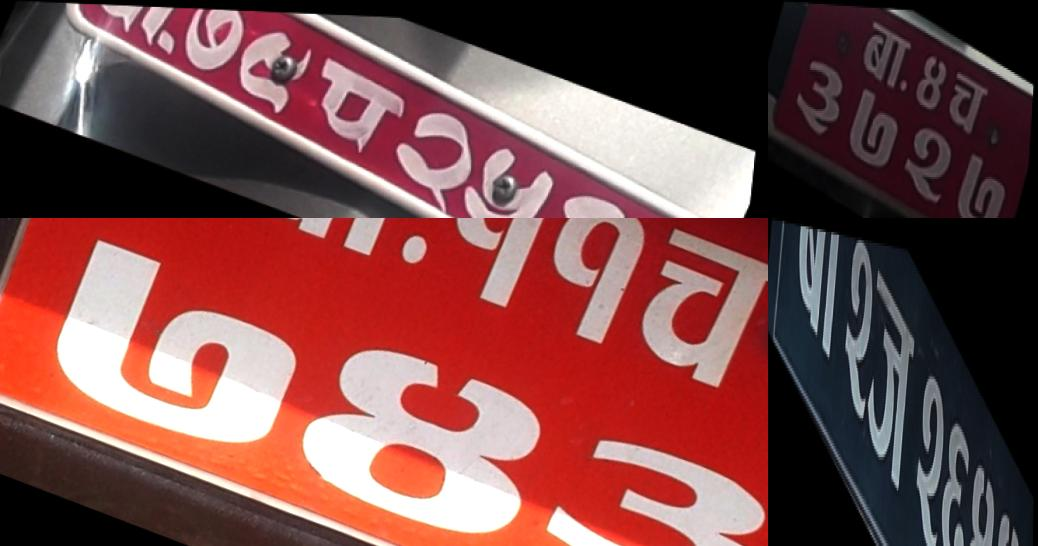1: (515, 218, 681, 356), (405, 218, 587, 324), (614, 202, 731, 218)
2: (374, 77, 505, 218), (909, 332, 951, 546), (837, 231, 878, 438), (896, 111, 963, 216)
3: (515, 391, 768, 546), (787, 40, 856, 146)
4: (269, 302, 589, 546), (961, 398, 1003, 546), (986, 450, 1029, 546), (910, 44, 953, 121)
5: (449, 119, 574, 218)
6: (935, 357, 978, 546), (534, 168, 659, 218)
7: (15, 218, 352, 480), (840, 76, 911, 186), (168, 6, 260, 85), (948, 137, 1020, 218)
9: (222, 8, 332, 122)
ba: (216, 218, 458, 281), (790, 222, 847, 383), (68, 2, 206, 68), (853, 5, 921, 100)
cha: (608, 218, 768, 400), (939, 58, 994, 142)
ja: (861, 237, 920, 519)
pa: (286, 41, 430, 173)
